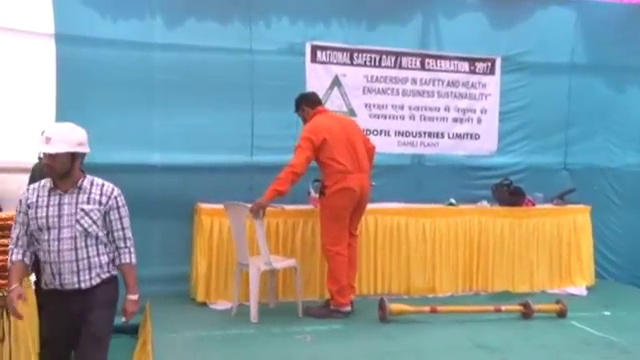helmet: (37, 120, 92, 156)
helmet_off: (292, 90, 324, 126)
helmet_on: (36, 121, 90, 186)
person: (7, 115, 143, 360), (257, 89, 379, 323)
